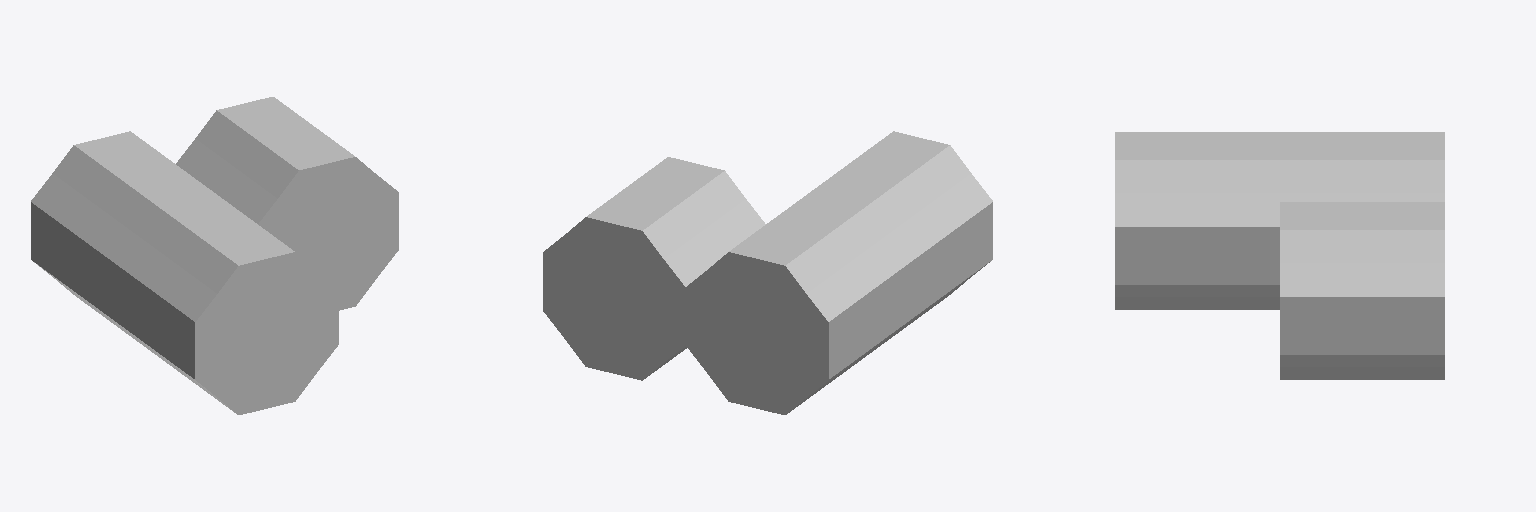
File: log_pile_3.obj
3 views of the same model, side by side, from view 1: azimuth 30°, elevation 25°; view 2: azimuth 150°, elevation 25°; view 3: azimuth 270°, elevation 25° (orthographic).
Visible parts, largest first — view 1: log.001, log, log.002; view 2: log.002, log, log.001; view 3: log, log.001, log.002.
Part boxes in pixels (x1,y1,x2,y2): log.001: (113, 192, 338, 414); log: (176, 97, 398, 310); log.002: (31, 131, 212, 352); log.002: (685, 192, 910, 414); log: (543, 157, 765, 380); log.001: (811, 131, 992, 352); log: (1280, 202, 1444, 379); log.001: (1115, 132, 1279, 309); log.002: (1280, 132, 1444, 201).
Size of the model in its own units: 1 by 0.5015 by 1.